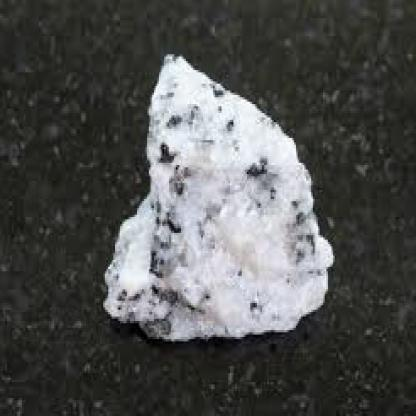Igneous_Diorite: (91, 41, 335, 344)
